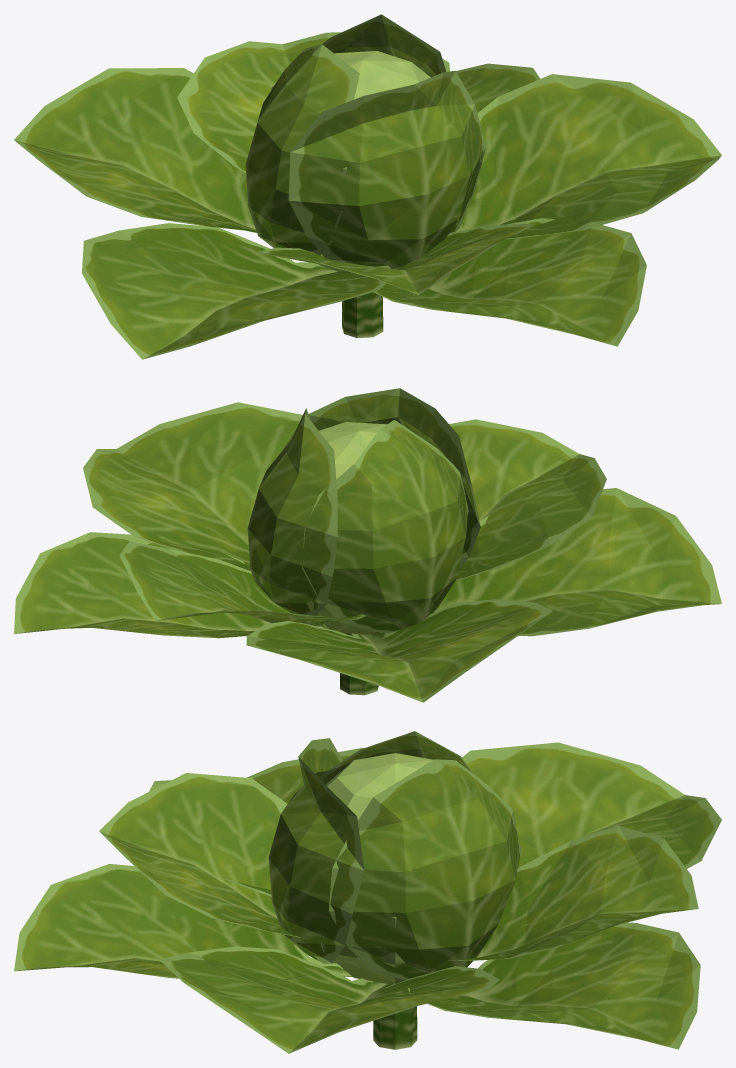
The model's file is Cabbage_02.obj.
3 views of the same model, one above another, from view 1: azimuth 30°, elevation 25°; view 2: azimuth 150°, elevation 25°; view 3: azimuth 270°, elevation 25° (orthographic). The views are drawn at different scales.
Bounding box in the file's own units: 0.5004 × 0.2271 × 0.4851.
Materials: 1 (1 with a texture image).
